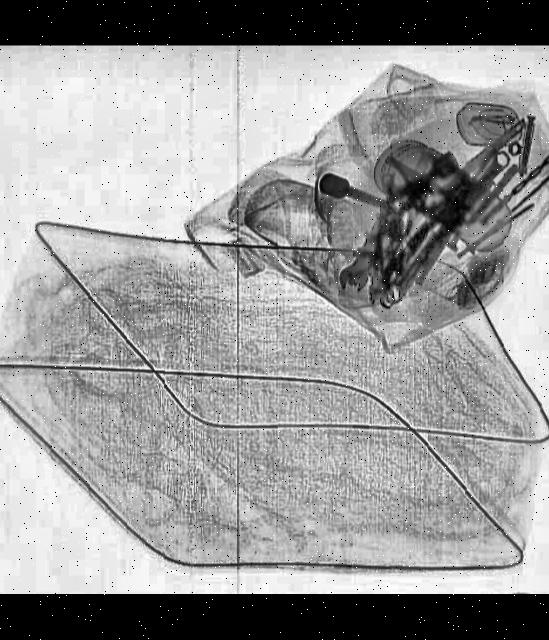Wrench: (332, 191, 406, 296)
